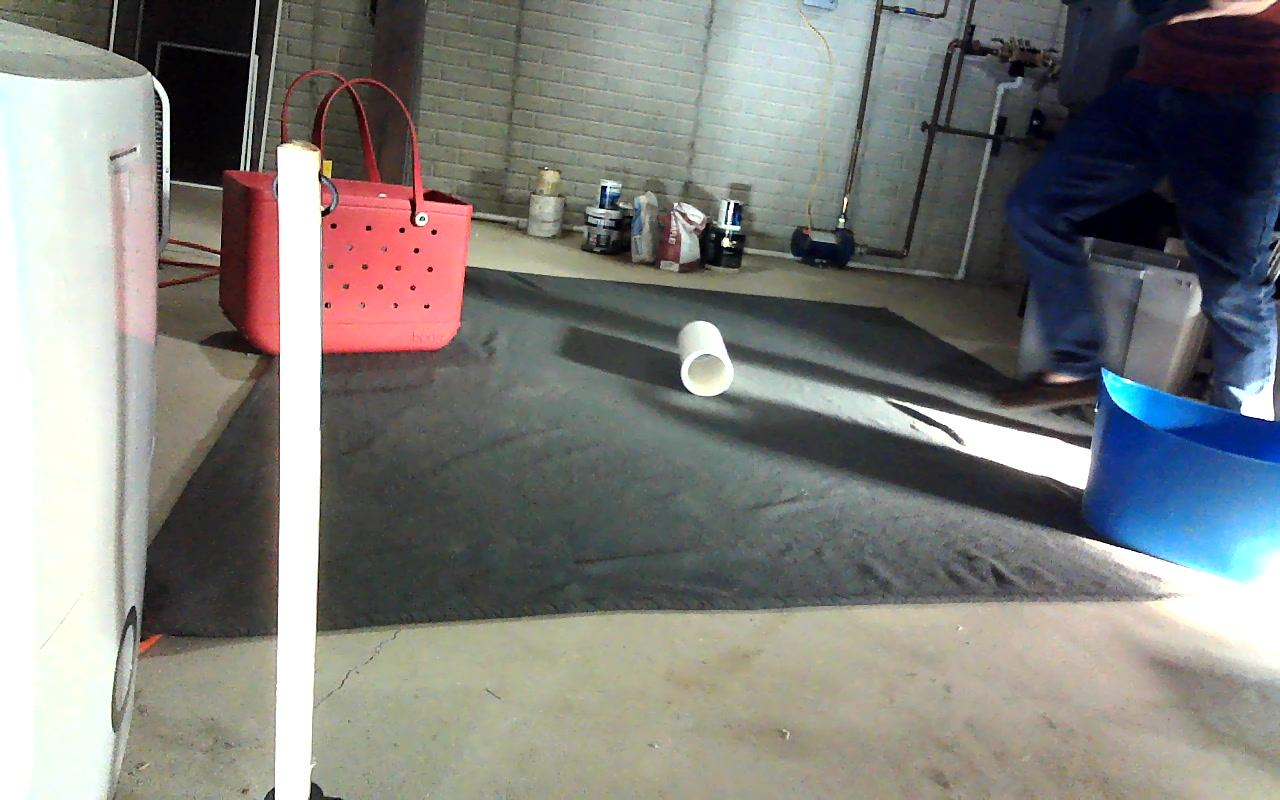coral: (676, 321, 731, 394)
